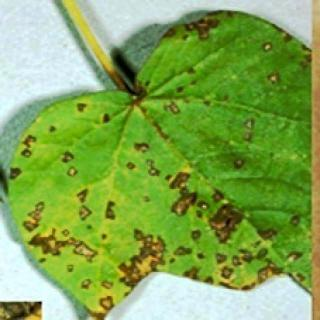blight: (13, 103, 275, 294), (156, 12, 310, 106)
